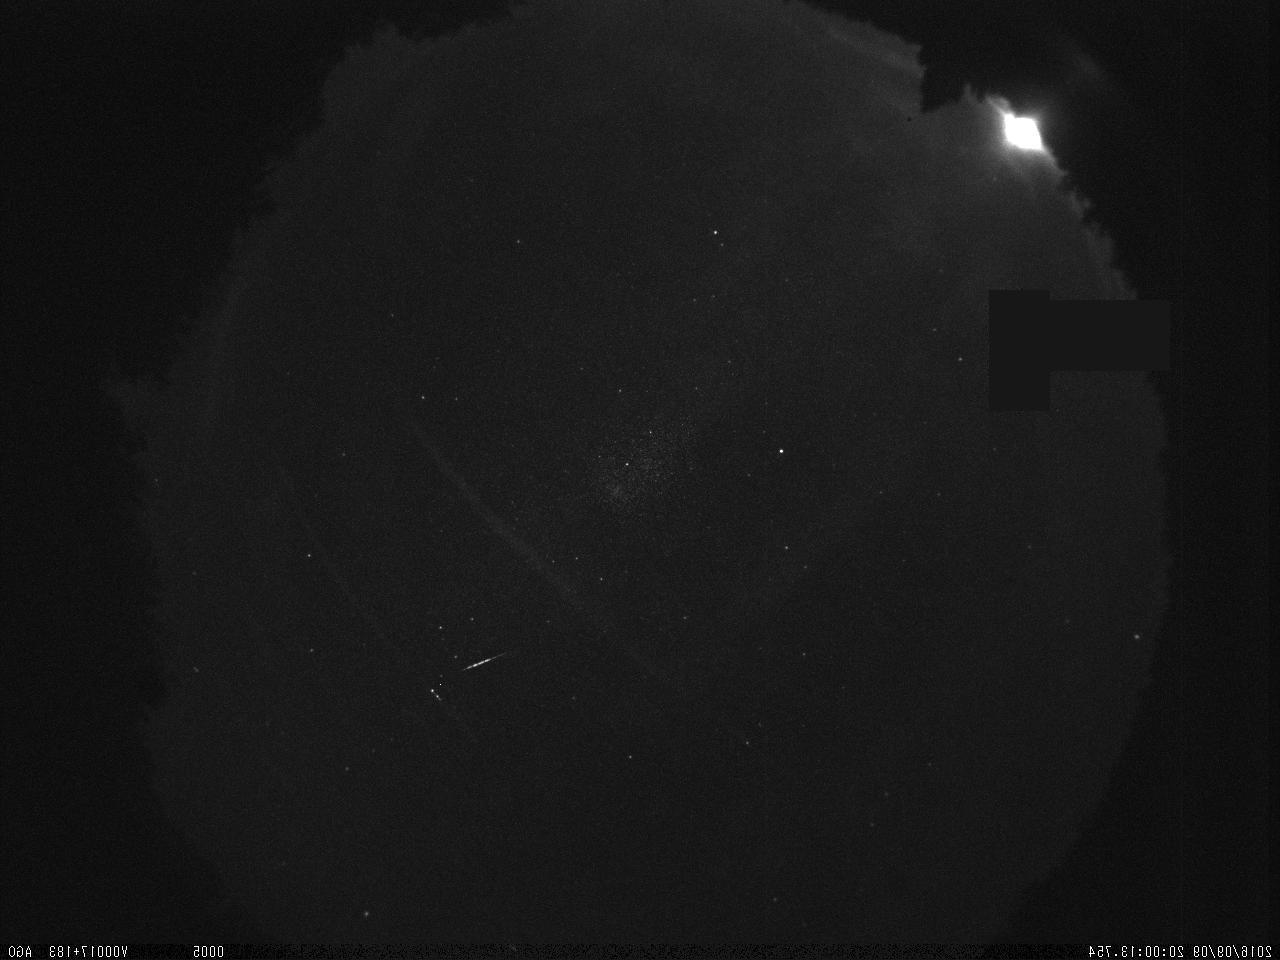meteor: (447, 637, 508, 682)
